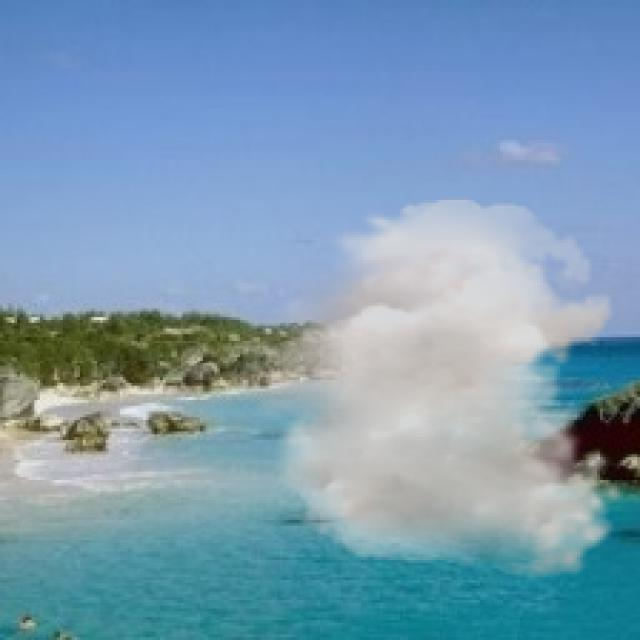smoke: (223, 197, 626, 580)
